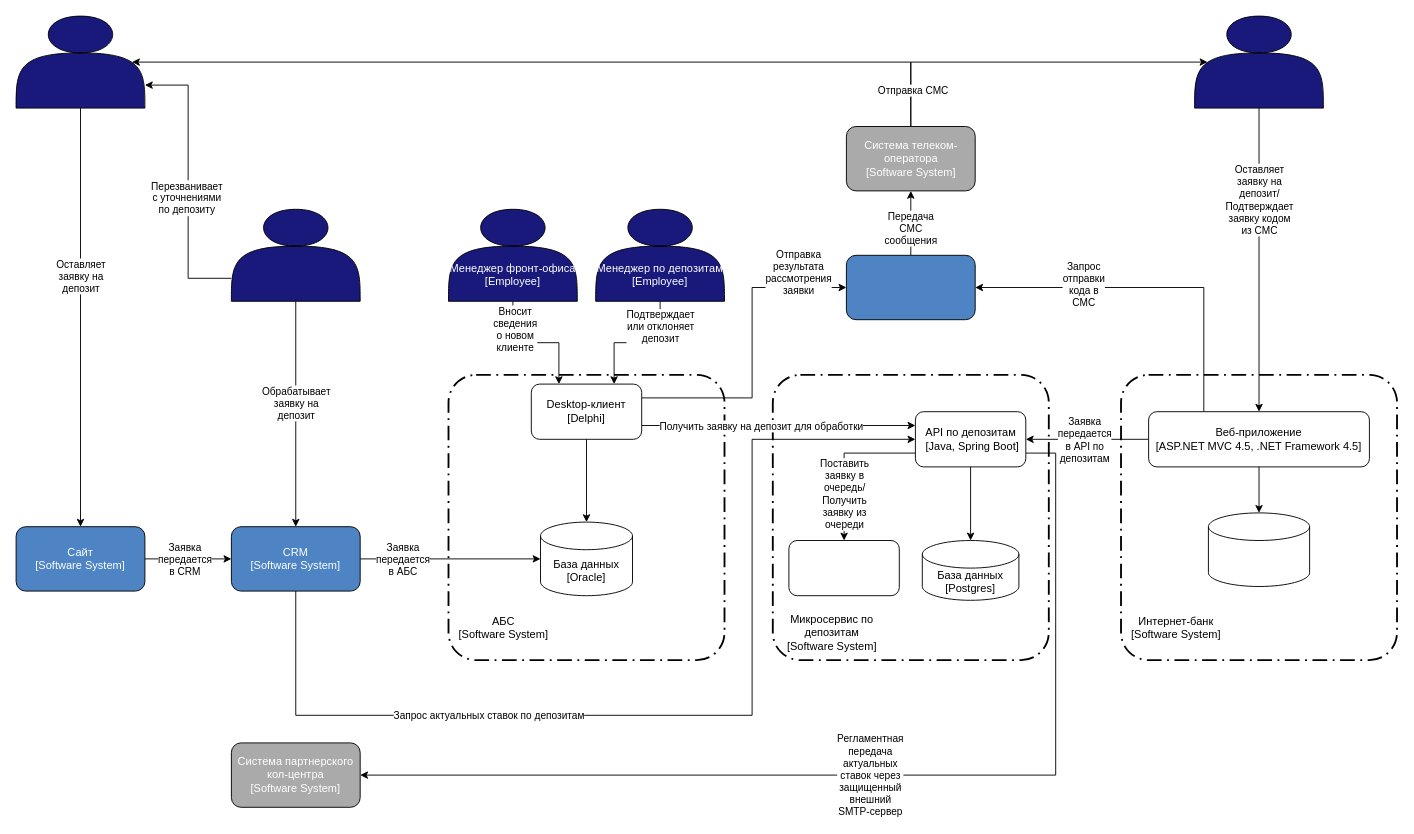
Image size: 1414x834. Some labels were removed from this diagram. Here are the shapes that lost their labels. From the top down, the centre of each, then its label:
the point at 80,61: Новый клиент [Person]
the point at 1258,61: Клиент [Person]
the point at 295,254: Оператор кол-центра [Employee]
the point at 910,287: СМС-шлюз [Software System]
the point at 843,568: Очередь заявок по депозитам [Kafka]
the point at 1259,549: База данных [MS SQL]
